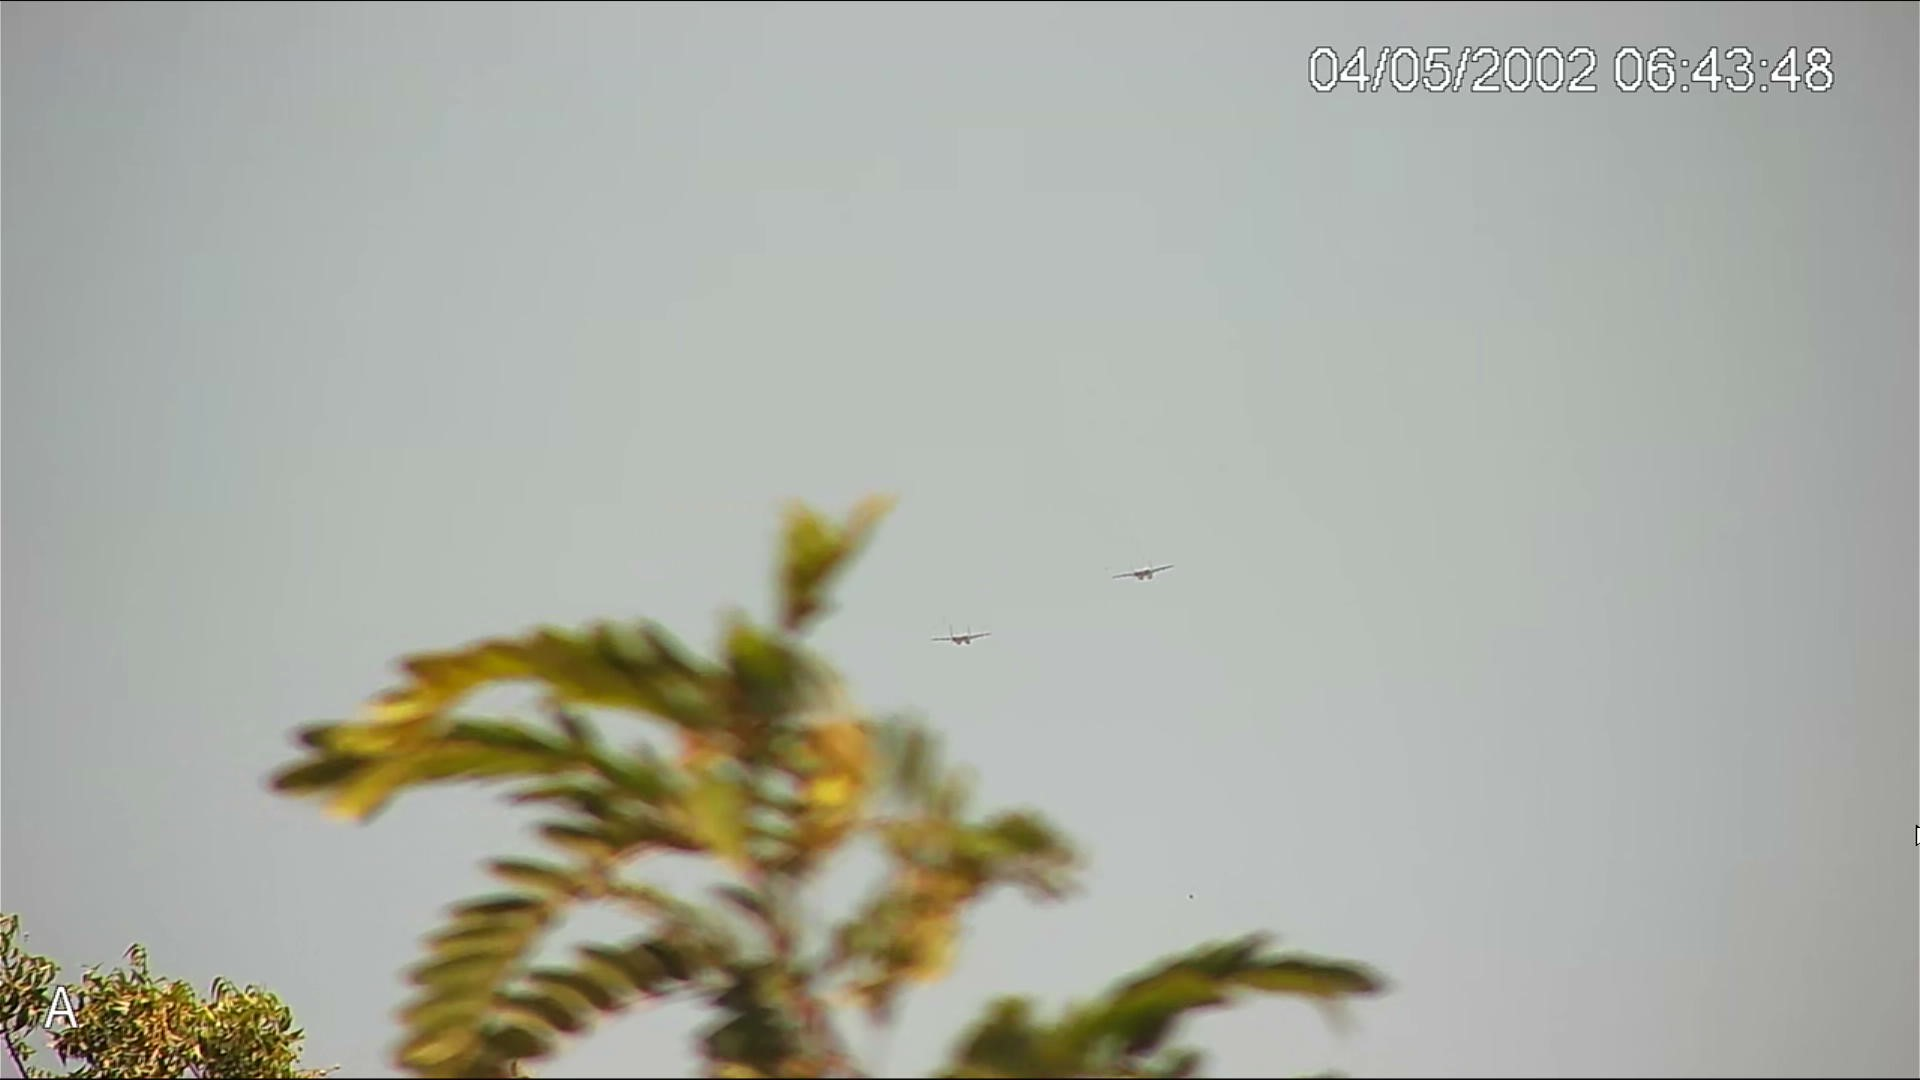SU_30: (923, 620, 996, 651), (1104, 563, 1192, 583)
